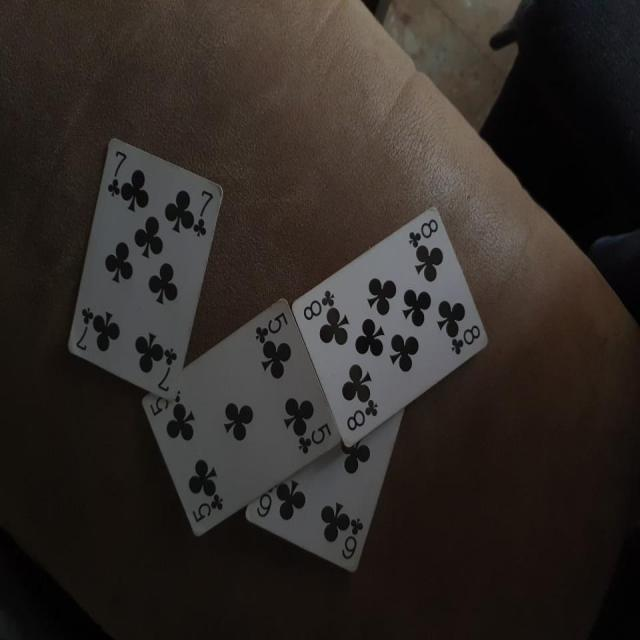5 Trefoils: (142, 295, 340, 542)
6 Trefoils: (245, 407, 404, 574)
7 Trefoils: (67, 138, 225, 404)
8 Trefoils: (292, 205, 491, 448)
